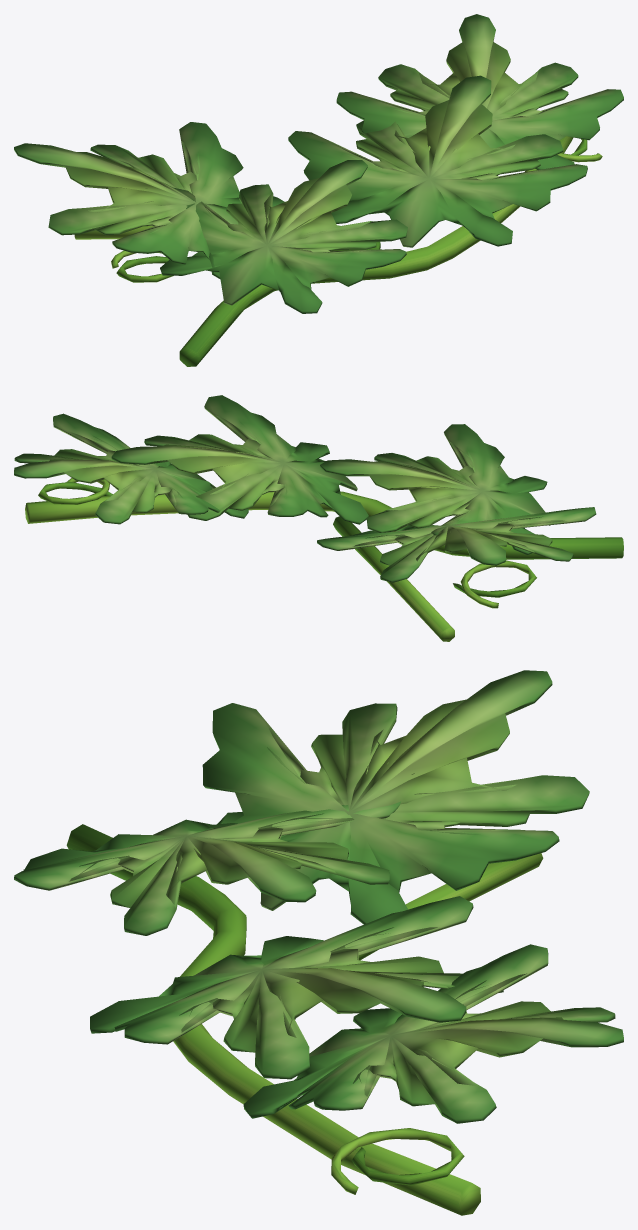
File: NP_Watermelon_Young_LOD1.fbx
3 renders of one model, top to bottom at view 1: azimuth 30°, elevation 25°; view 2: azimuth 150°, elevation 25°; view 3: azimuth 270°, elevation 25°, orthographic. The views are drawn at different scales.
Parts seen in each view (by area): view 1: NP_Watermelon_Young; view 2: NP_Watermelon_Young; view 3: NP_Watermelon_Young.
Boxes of the visible parts, box(x1,y1,x2,y2) form: NP_Watermelon_Young: box(14, 14, 623, 366); NP_Watermelon_Young: box(14, 395, 623, 641); NP_Watermelon_Young: box(14, 670, 623, 1215).
Size of the model in its own units: 50.68 by 9.69 by 31.59.
